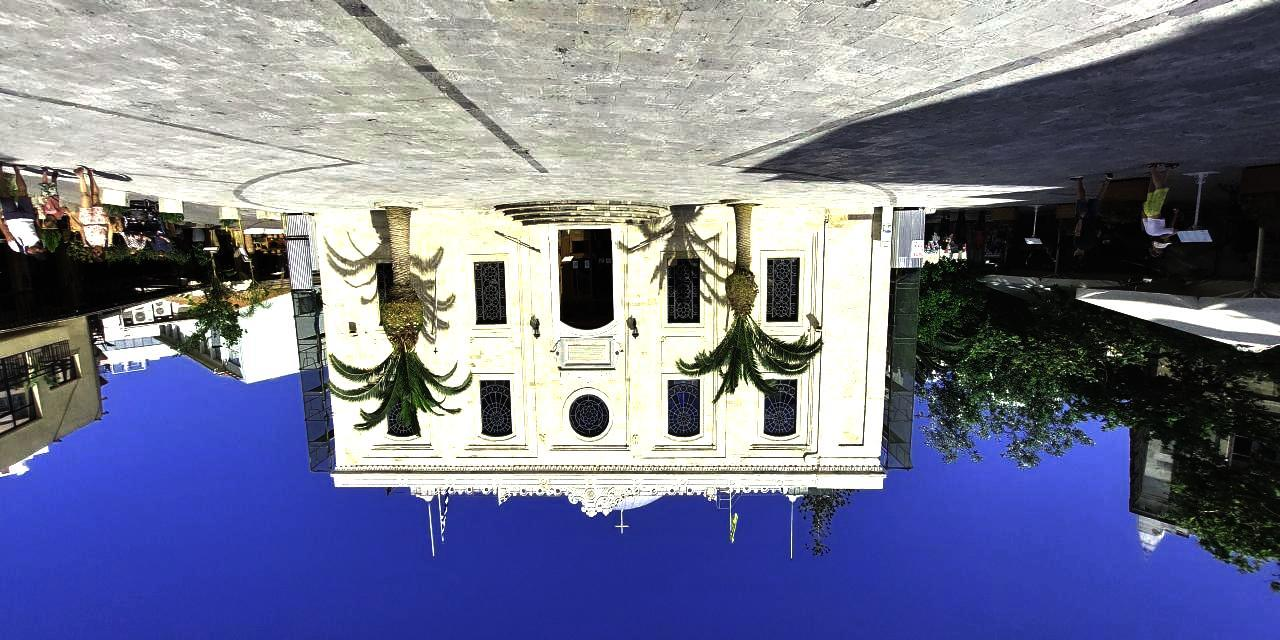Agios Titos: (330, 200, 896, 512)
